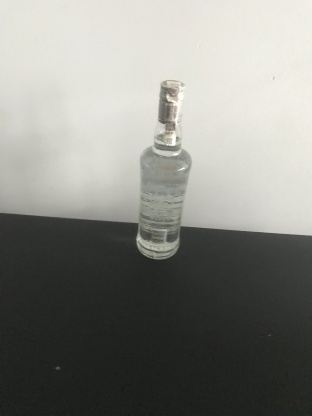nakretka: (156, 77, 186, 124)
